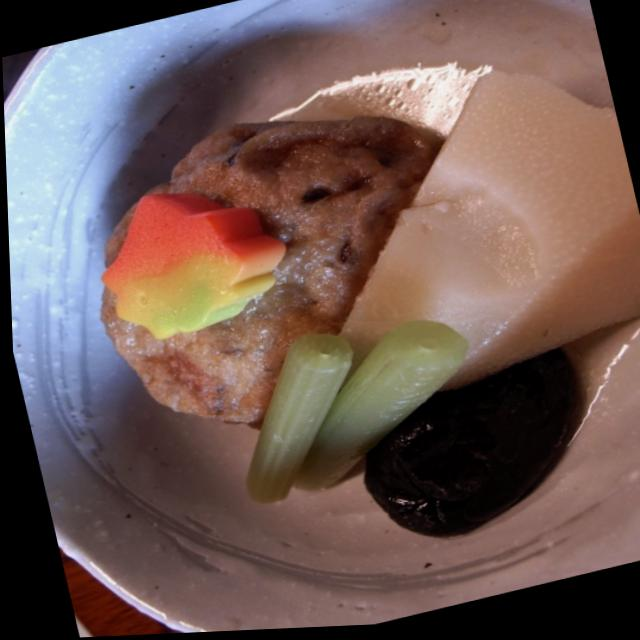熟制海鲜: (15, 9, 640, 619)
